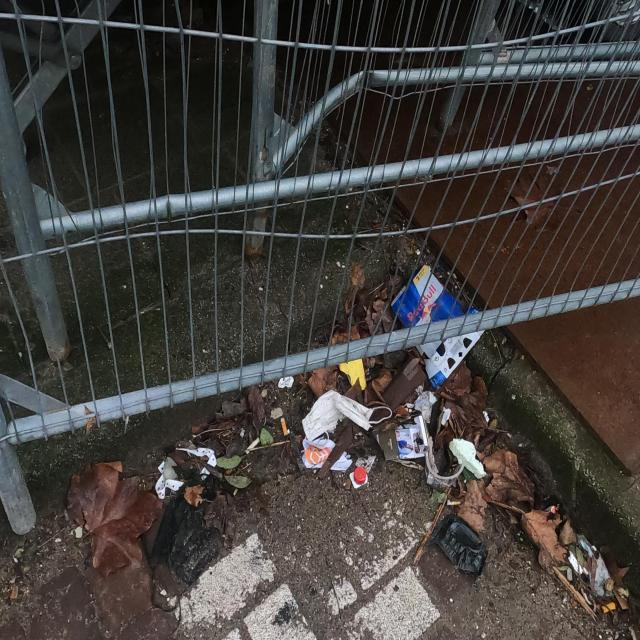Mask: (300, 389, 392, 447)
Paper: (376, 414, 430, 462), (568, 538, 610, 598), (278, 376, 294, 388)
Plastic: (431, 513, 489, 577), (414, 385, 451, 426), (302, 438, 336, 468), (427, 473, 457, 488)
Trash -everything else-: (148, 467, 237, 613), (449, 438, 487, 480), (339, 358, 367, 391)
